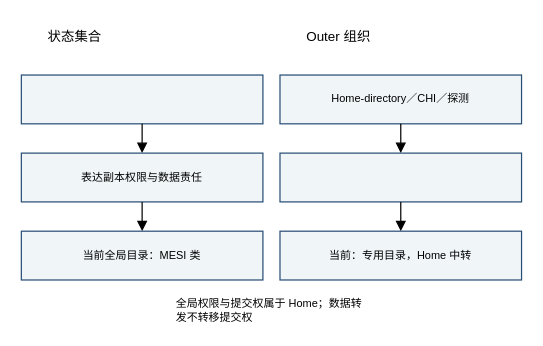
Some shapes in this 543 by 346 pixel diagram are drawn without their labels. The shapes that lost their labels are listed below. From the top down, each one's centre as x and y in pixels, then its label:
(141,99): VI／MSI／MESI／MOESI／MESIF
(400,177): 决定消息承载与数据路径
